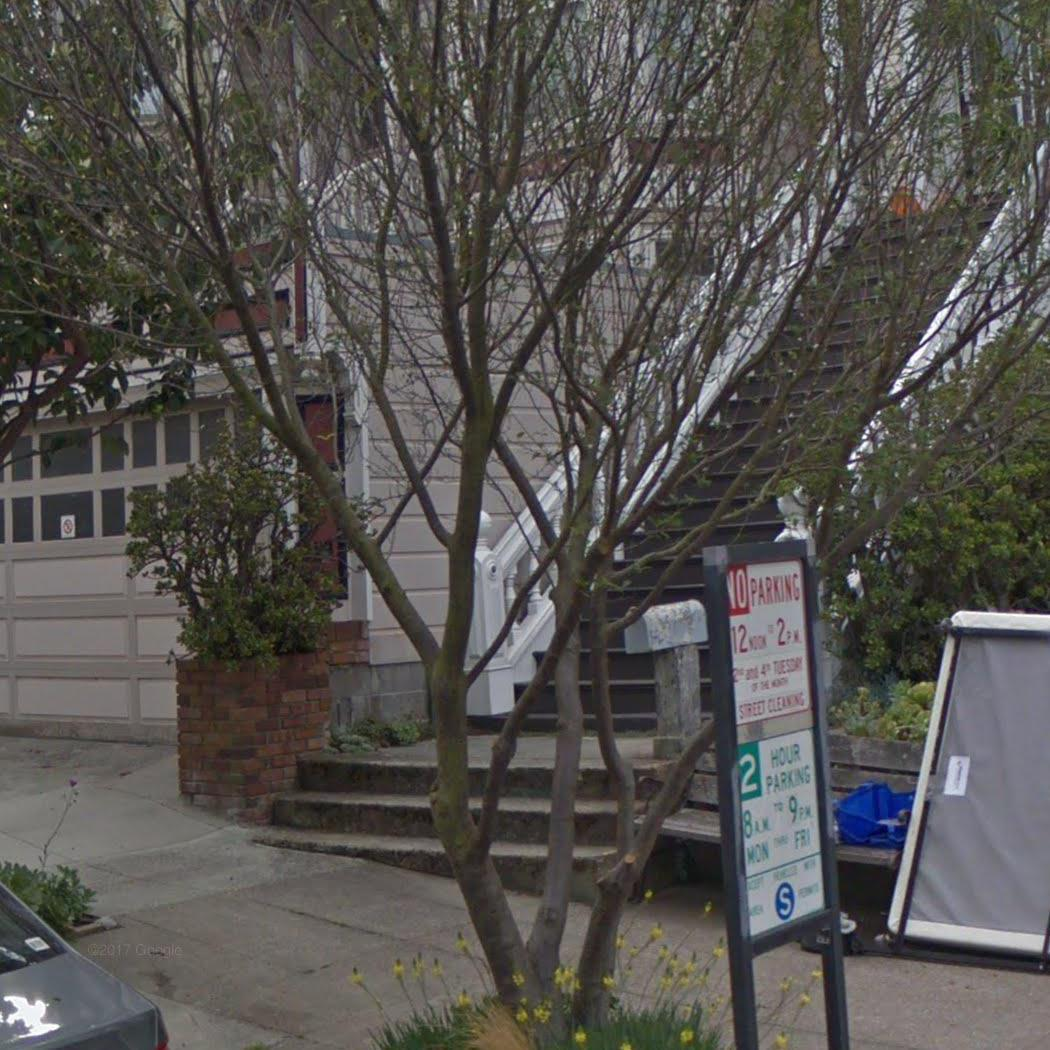2 Hour Parking: (716, 726, 842, 953)
No Parking: (707, 542, 822, 742)
